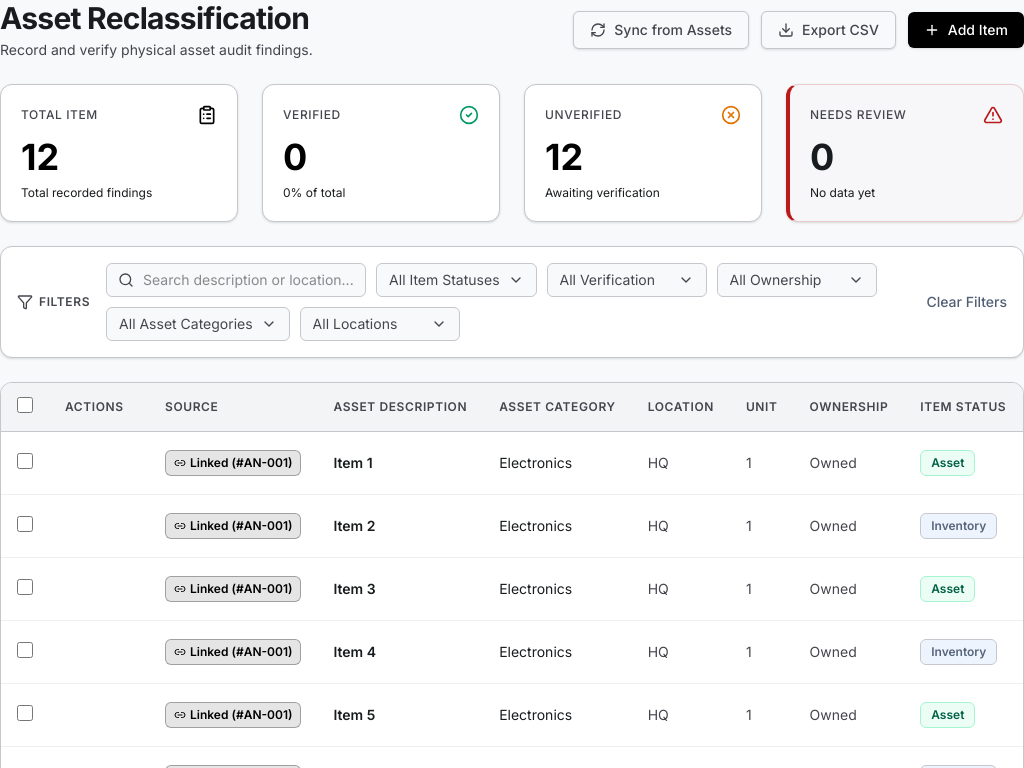
Scenario: Reclassification — bulk delete routing (deleteAll vs deleteMultiple) › deletes nothing until the confirmation text is exactly DELETE
Click the 2nd checkbox at (25, 460), box top-left (17, 452), bottom-right (33, 468)
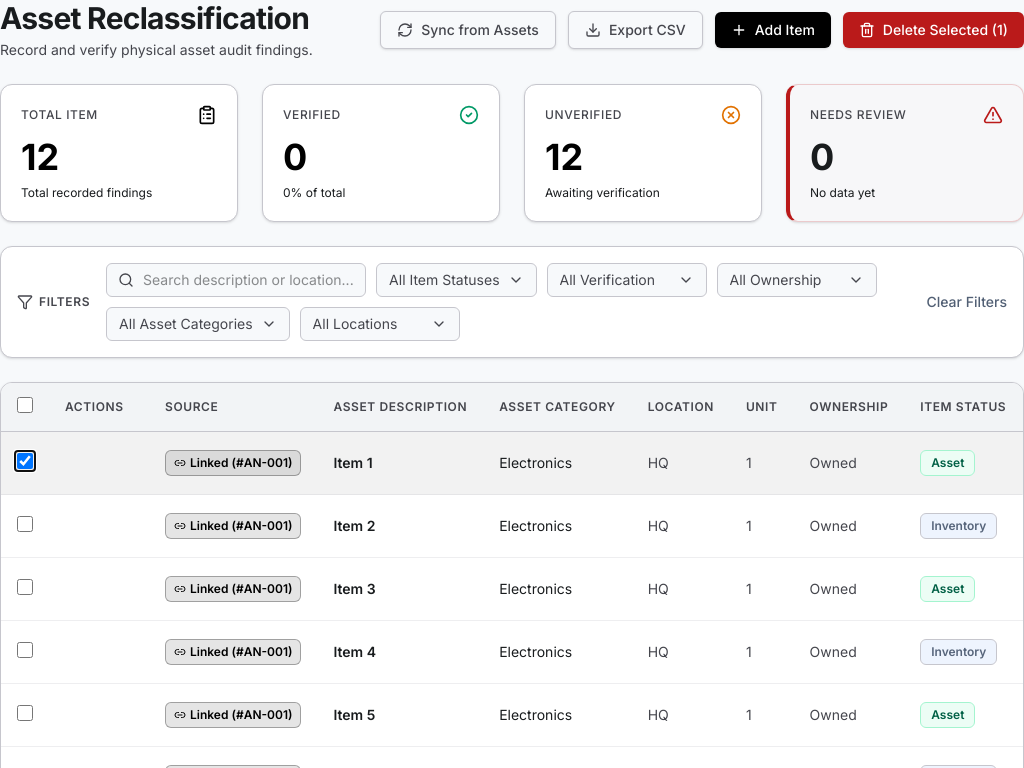
Click the button "Delete Selected (1)" at (933, 30), box top-left (843, 12), bottom-right (1023, 48)
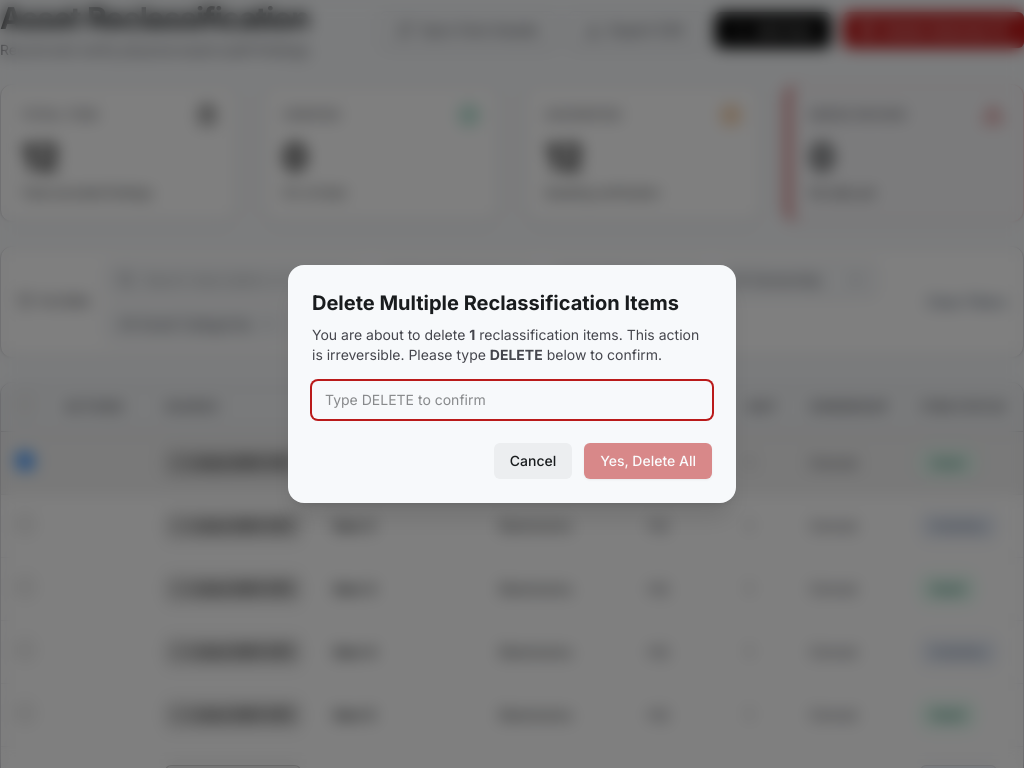
Check: the button "Yes, Delete All" is disabled, box top-left (584, 443), bottom-right (712, 479)
Type "delete" into the field with placeholder "Type DELETE to confirm" at (512, 400), box top-left (312, 381), bottom-right (712, 419)
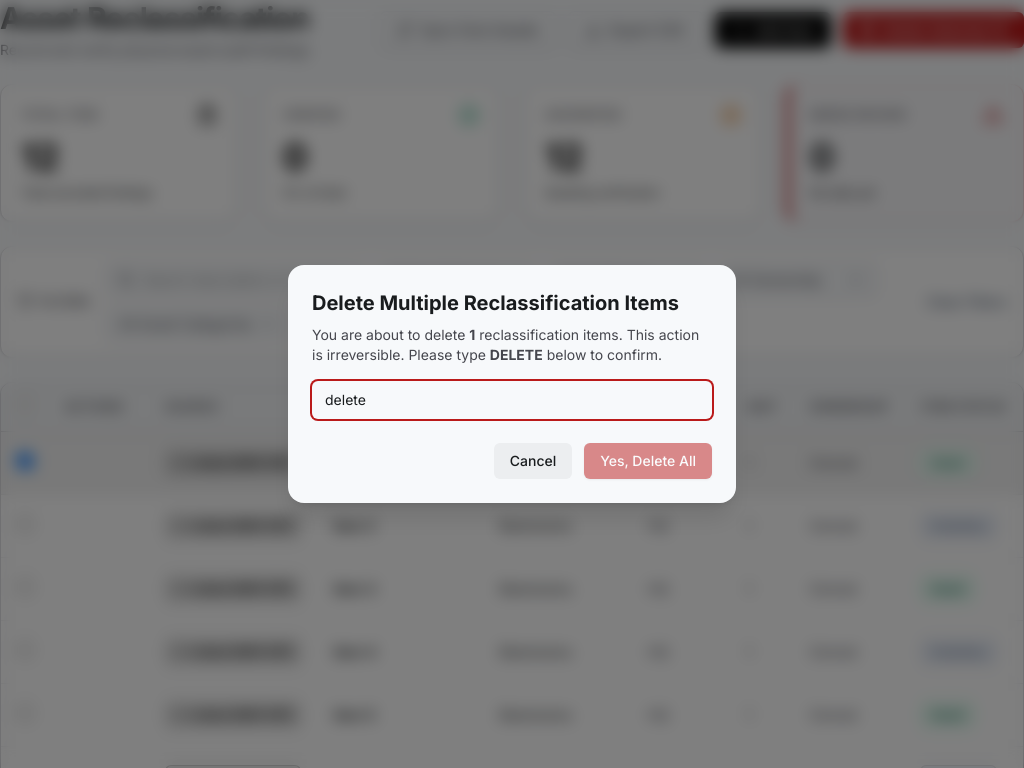
Check: the button "Yes, Delete All" is disabled, box top-left (584, 443), bottom-right (712, 479)
Replace the text in the field with placeholder "Type DELETE to confirm" with "DELETE" at (512, 400), box top-left (312, 381), bottom-right (712, 419)
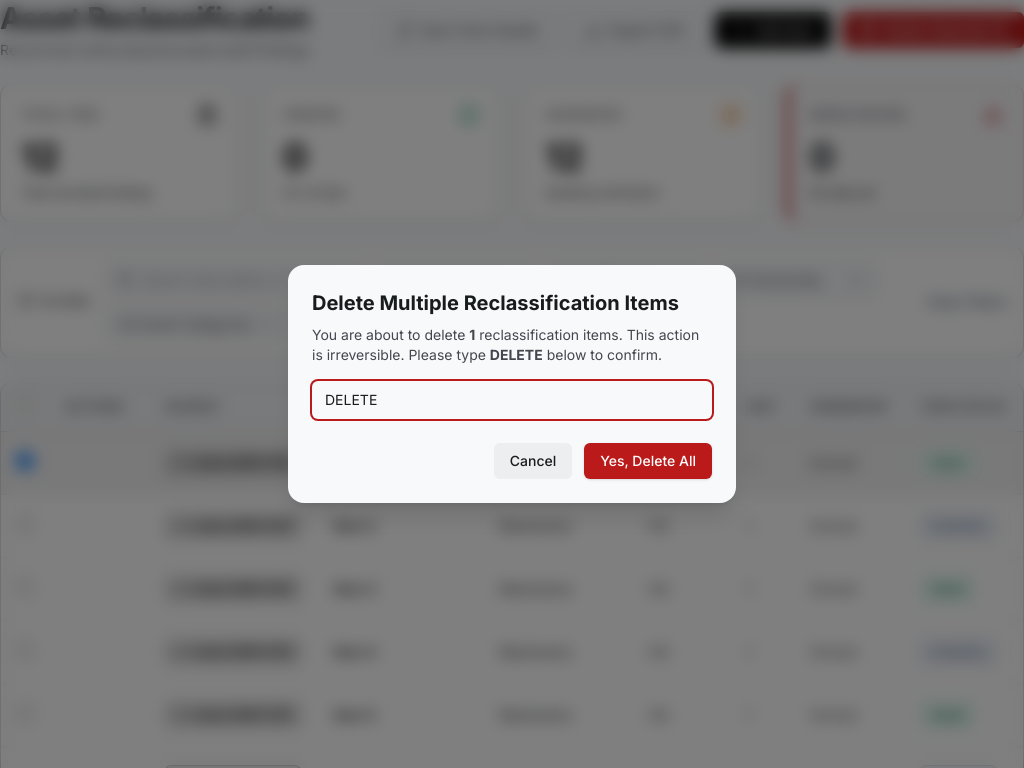
Check: the button "Yes, Delete All" is enabled, box top-left (584, 443), bottom-right (712, 479)
